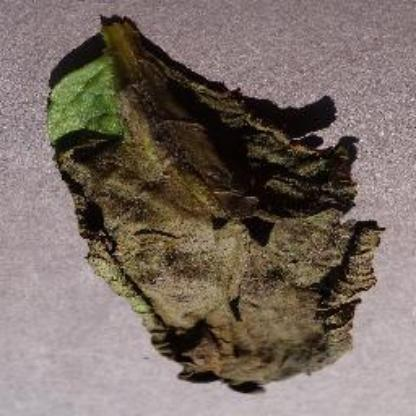Late-Blight: (44, 16, 388, 394)
